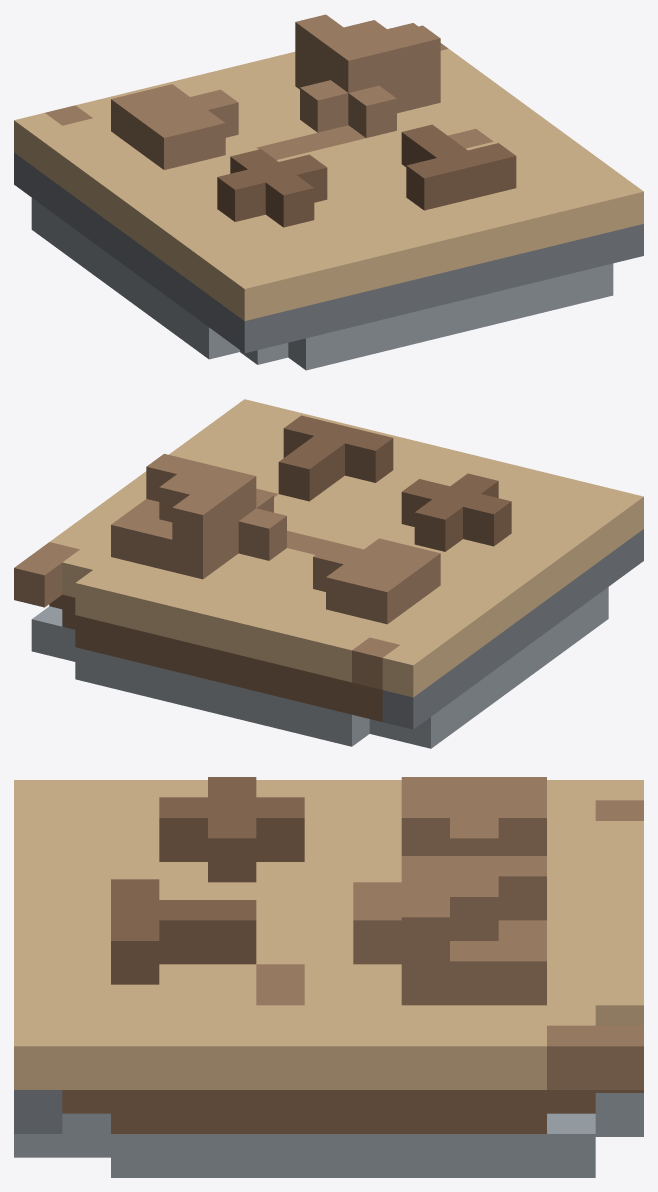
Rendered from barren.lod1.glb.
3 views of the same model, one above another, from view 1: azimuth 30°, elevation 25°; view 2: azimuth 150°, elevation 25°; view 3: azimuth 270°, elevation 25° (orthographic). The views are drawn at different scales.
Parts seen in each view (by area): view 1: VX_barren_LOD1; view 2: VX_barren_LOD1; view 3: VX_barren_LOD1.
Part boxes in pixels (bbox=[...]): VX_barren_LOD1: bbox=[14, 14, 643, 370]; VX_barren_LOD1: bbox=[14, 399, 643, 748]; VX_barren_LOD1: bbox=[14, 777, 643, 1177].
Bounding box in the file's own units: 5.72 × 2.2 × 5.72.
